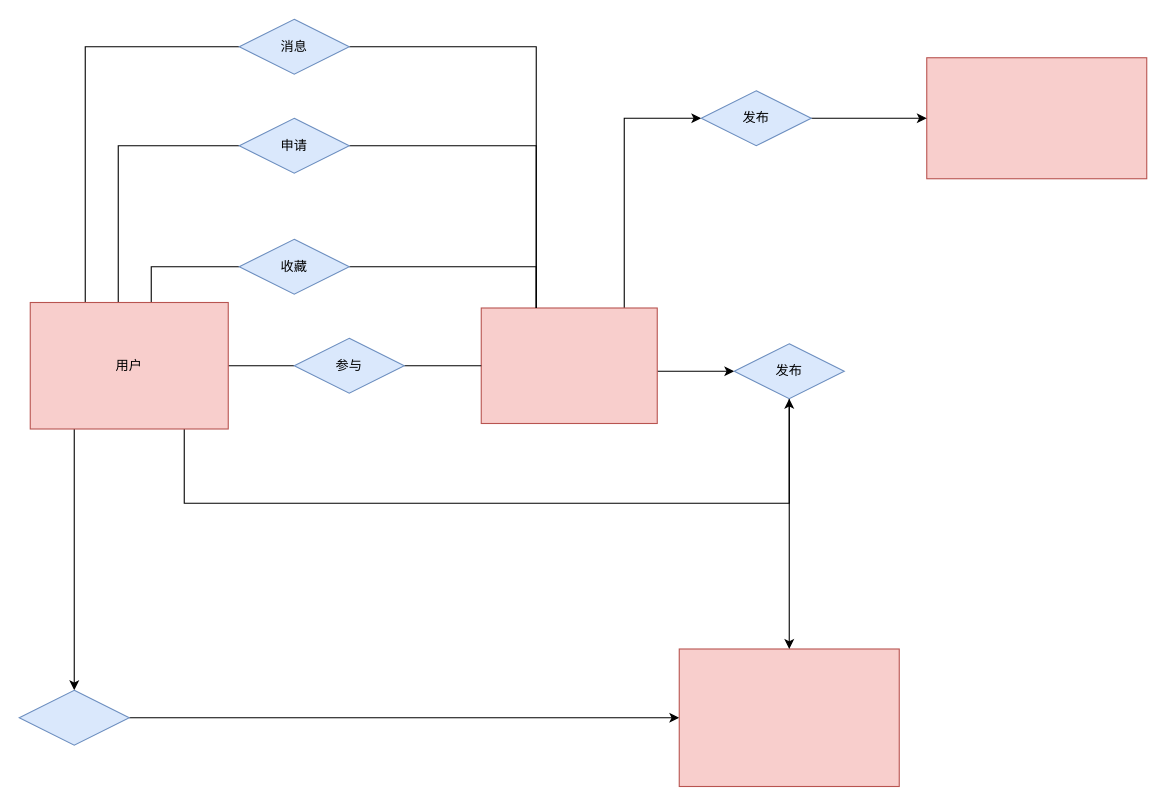
Some shapes in this 1166 by 806 pixel diagram are drawn without their labels. Each missing label, with the centre of its shape:
"动态" goes at (788,717).
"活动" goes at (1036,118).
"社团" goes at (568,365).
"评论" goes at (73,717).
